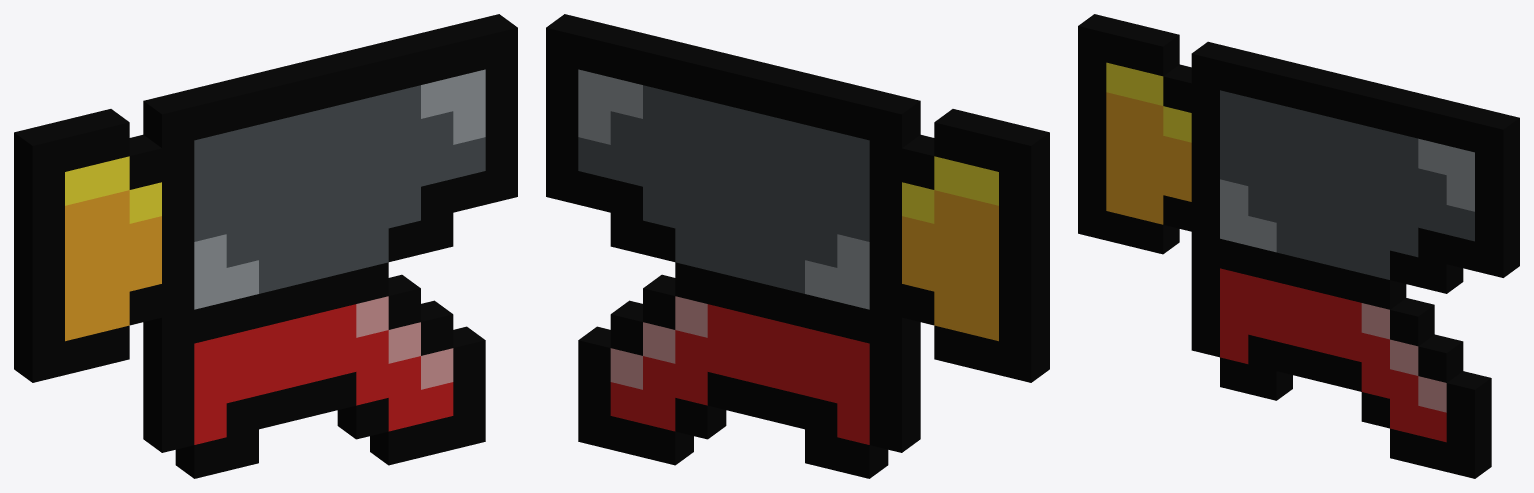
The model's file is Gray Heavy Paintball Gun.glb.
3 renders of one model, left to right at view 1: azimuth 30°, elevation 25°; view 2: azimuth 150°, elevation 25°; view 3: azimuth 330°, elevation 25°, orthographic. The views are drawn at different scales.
Parts seen in each view (by area): view 1: generated(Clone); view 2: generated(Clone); view 3: generated(Clone).
Part boxes in pixels (x1,y1,x2,y2): generated(Clone): (14, 14, 517, 478); generated(Clone): (546, 14, 1049, 478); generated(Clone): (1078, 14, 1519, 478).
Bounding box in the file's own units: 15 × 12 × 0.9998.
1 material, 1 textured.
